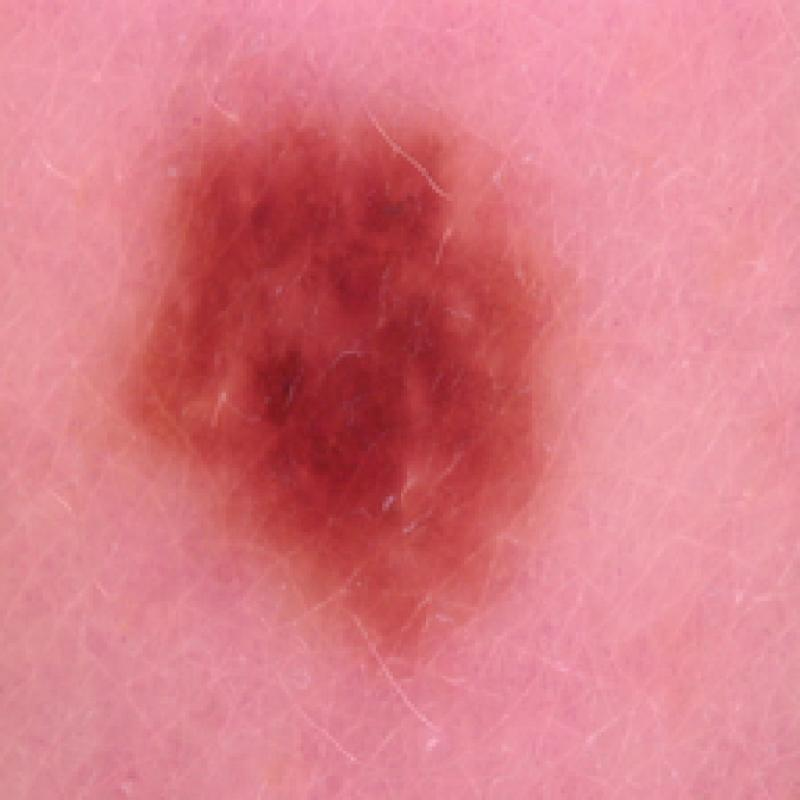benign: (106, 91, 600, 657)
